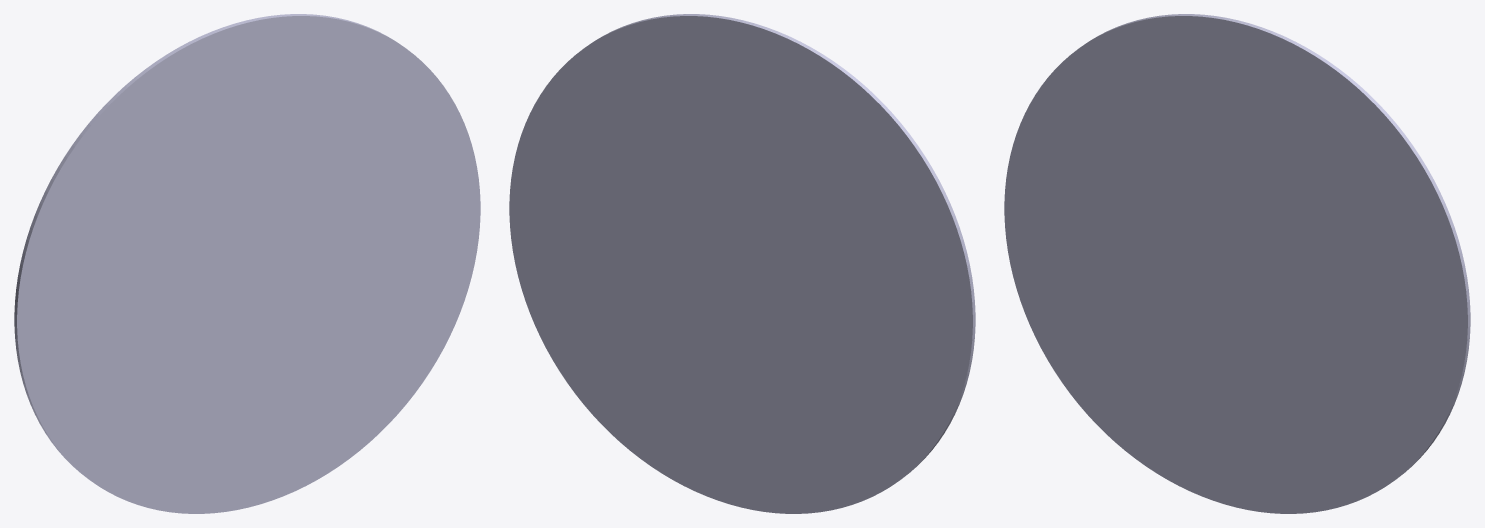
File: Camera_Lens.dae
3 renders of one model, left to right at view 1: azimuth 30°, elevation 25°; view 2: azimuth 150°, elevation 25°; view 3: azimuth 330°, elevation 25°, orthographic.
Visible parts, largest first — view 1: node0; view 2: node0; view 3: node0.
Boxes of the visible parts, x1,y1,x2,y2 form: node0: (14, 14, 480, 513); node0: (509, 14, 975, 513); node0: (1004, 14, 1470, 513).
Size of the model in its own units: 0.01 by 0.0001 by 0.01.
